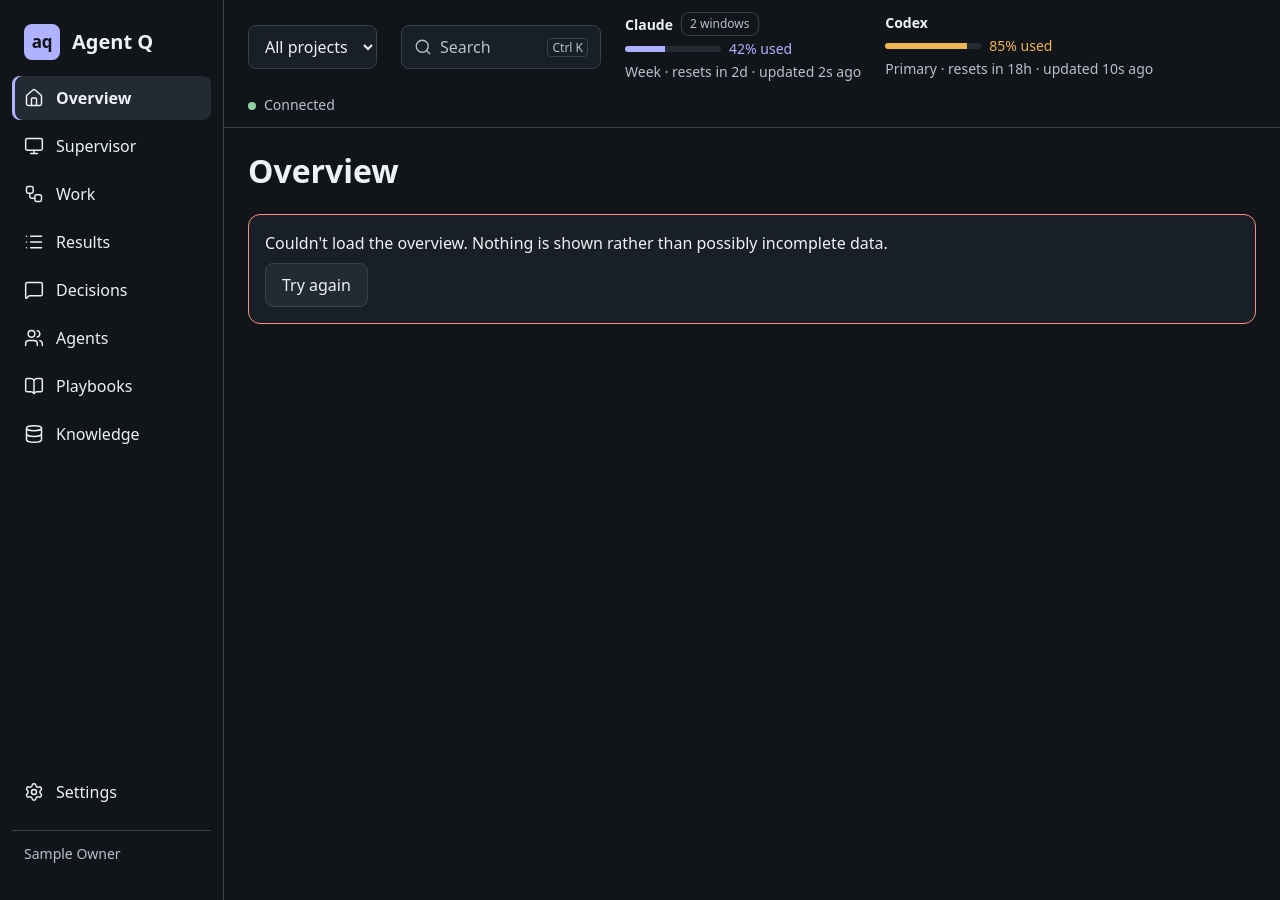
Test: a failed search shows an error, not 'no matches'
Click the button "Search Ctrl K": point(501, 47) [401,25,601,69]
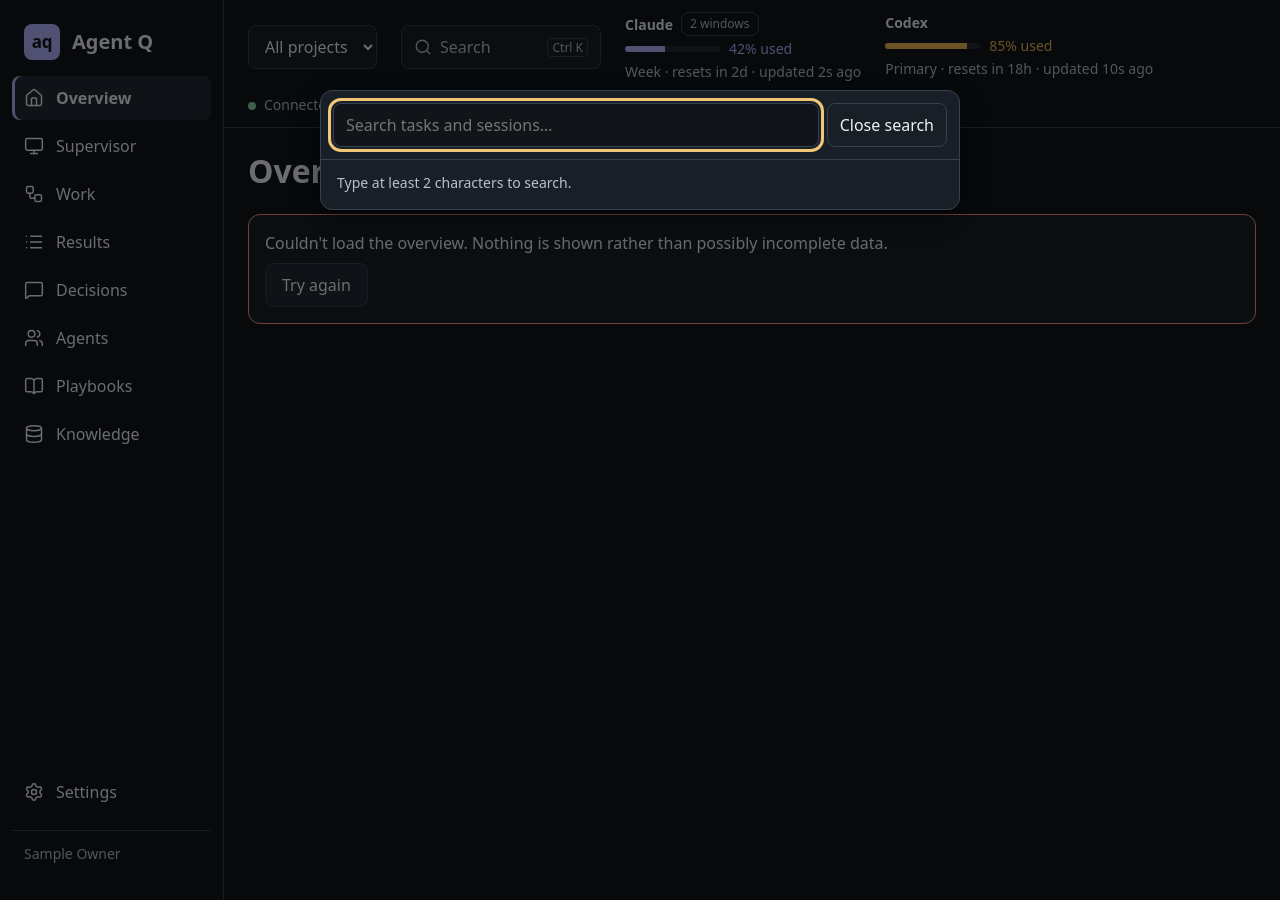
In the search field: point(576, 125) [333,103,819,147], type "recovery"
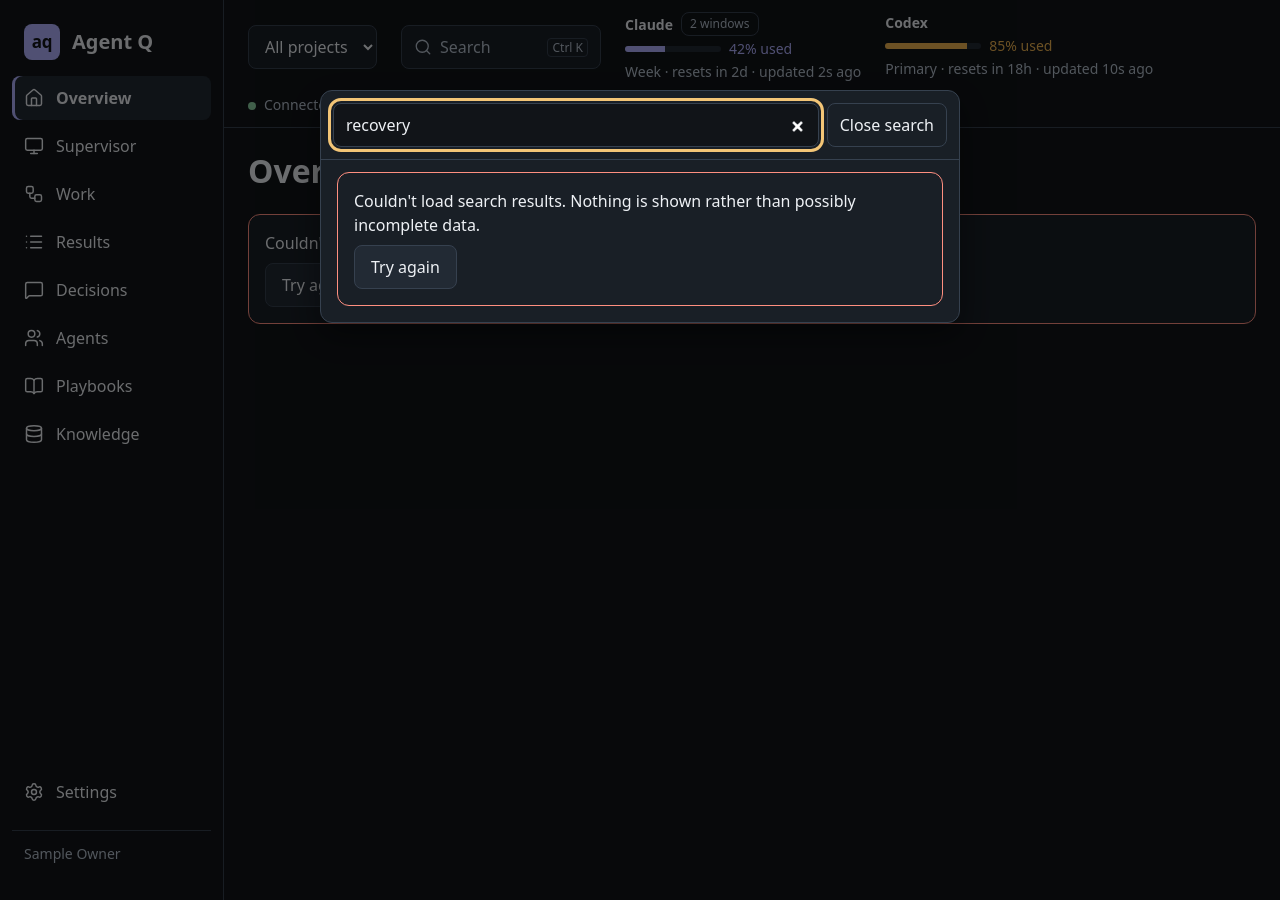
Expected: the message shows "Couldn't load search results", [354,190,856,236]
